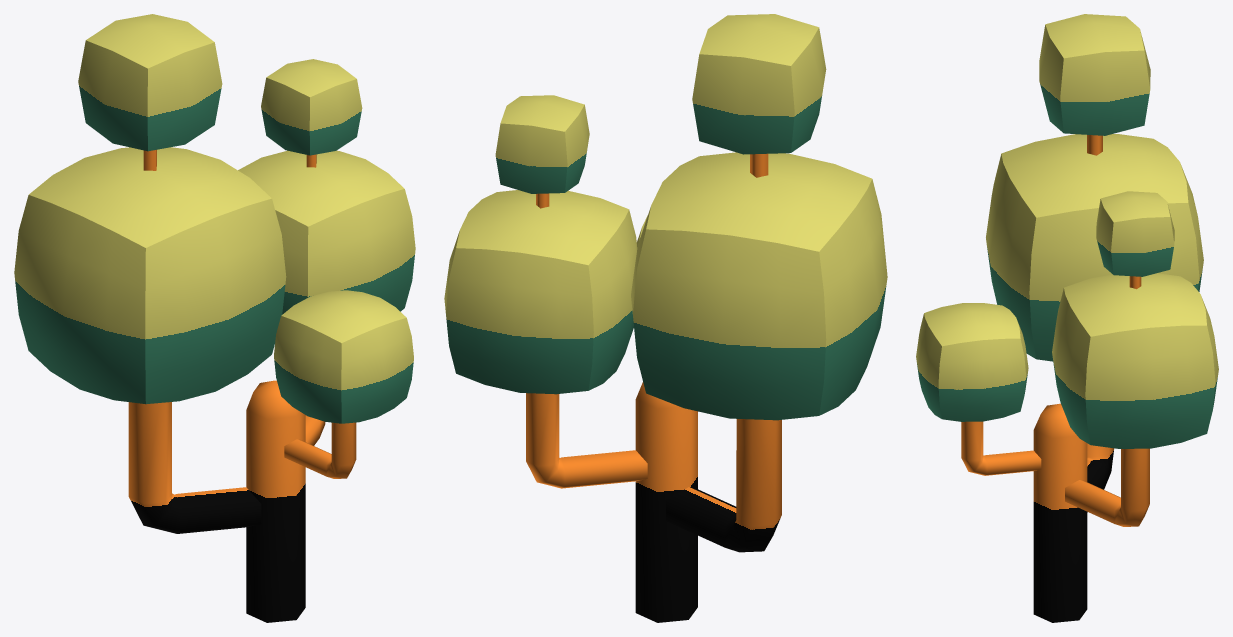
File: tree_square1.obj
3 renders of one model, left to right at view 1: azimuth 30°, elevation 25°; view 2: azimuth 150°, elevation 25°; view 3: azimuth 270°, elevation 25°, orthographic. The views are drawn at different scales.
Parts seen in each view (by area): view 1: Tree.027_Circle.007; view 2: Tree.027_Circle.007; view 3: Tree.027_Circle.007.
Part boxes in pixels (left/top/right/bottom): Tree.027_Circle.007: left=14, top=14, right=415, bottom=622; Tree.027_Circle.007: left=444, top=14, right=887, bottom=622; Tree.027_Circle.007: left=916, top=14, right=1218, bottom=622.
Bounding box in the file's own units: 3.73 × 5.79 × 2.93.
Materials: 1 (1 with a texture image).
